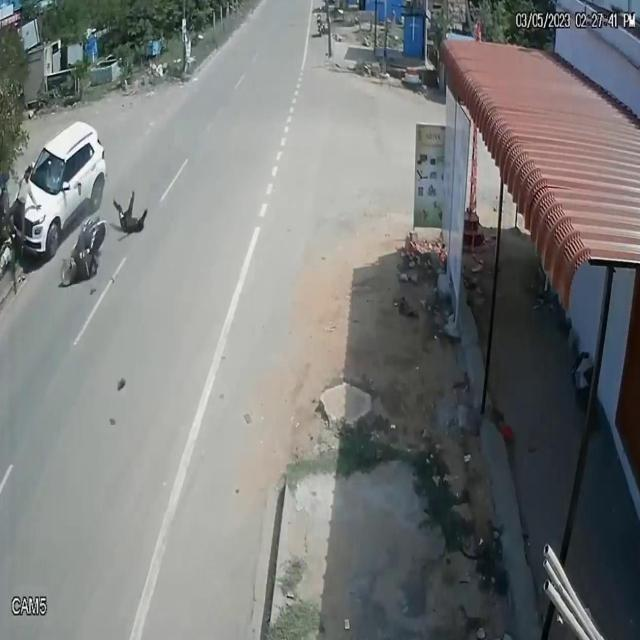accident: (0, 114, 153, 314)
